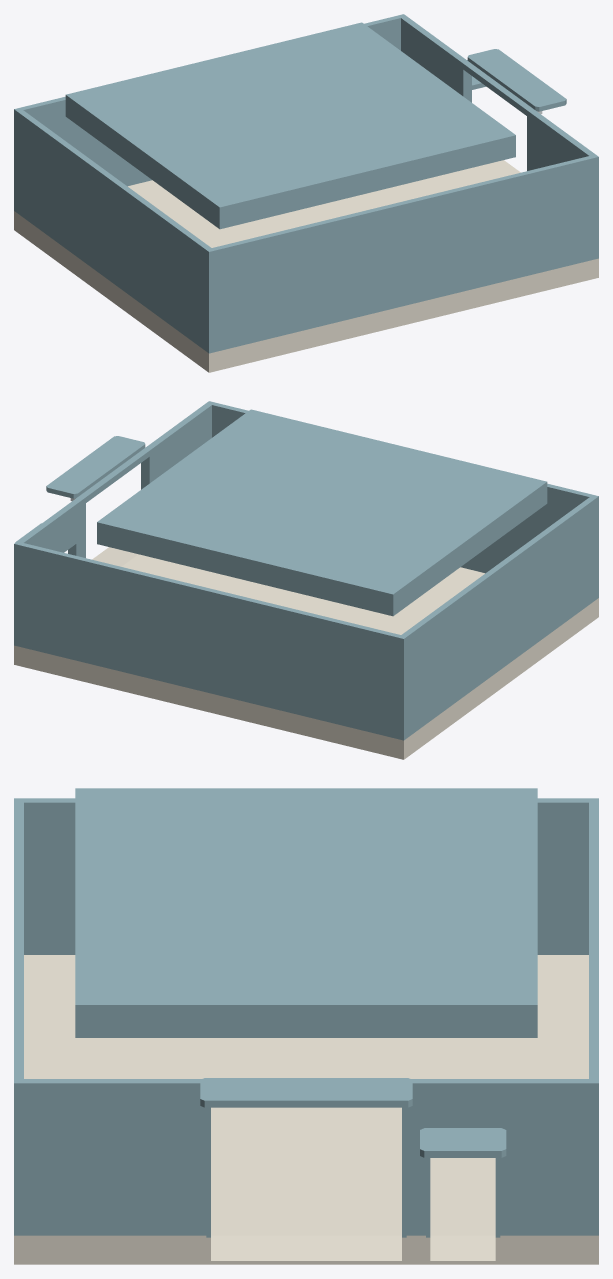
Rendered from Mine_AccessSupport_ShadowProxy.glb.
3 renders of one model, top to bottom at view 1: azimuth 30°, elevation 25°; view 2: azimuth 150°, elevation 25°; view 3: azimuth 270°, elevation 25°, orthographic. The views are drawn at different scales.
Parts seen in each view (by area): view 1: Mine_AccessSupport_ShadowProxy / Structure, Mine_AccessSupport_ShadowProxy / Roof, Mine_AccessSupport_ShadowProxy / Foundation, Mine_AccessSupport_ShadowProxy / Entrance modules; view 2: Mine_AccessSupport_ShadowProxy / Structure, Mine_AccessSupport_ShadowProxy / Roof, Mine_AccessSupport_ShadowProxy / Foundation, Mine_AccessSupport_ShadowProxy / Entrance modules; view 3: Mine_AccessSupport_ShadowProxy / Roof, Mine_AccessSupport_ShadowProxy / Structure, Mine_AccessSupport_ShadowProxy / Foundation, Mine_AccessSupport_ShadowProxy / Entrance modules.
Part boxes in pixels (<box>): Mine_AccessSupport_ShadowProxy / Structure: <box>14,14,598,353</box>; Mine_AccessSupport_ShadowProxy / Roof: <box>65,22,515,229</box>; Mine_AccessSupport_ShadowProxy / Foundation: <box>14,167,598,372</box>; Mine_AccessSupport_ShadowProxy / Entrance modules: <box>465,49,566,179</box>; Mine_AccessSupport_ShadowProxy / Structure: <box>14,401,598,740</box>; Mine_AccessSupport_ShadowProxy / Roof: <box>97,409,547,616</box>; Mine_AccessSupport_ShadowProxy / Foundation: <box>14,554,598,759</box>; Mine_AccessSupport_ShadowProxy / Entrance modules: <box>15,436,147,566</box>; Mine_AccessSupport_ShadowProxy / Roof: <box>75,788,537,1037</box>; Mine_AccessSupport_ShadowProxy / Structure: <box>14,798,598,1235</box>; Mine_AccessSupport_ShadowProxy / Foundation: <box>14,955,598,1264</box>; Mine_AccessSupport_ShadowProxy / Entrance modules: <box>200,1078,506,1264</box>.
Bounding box in the file's own units: 16.2 × 5.25 × 13.
